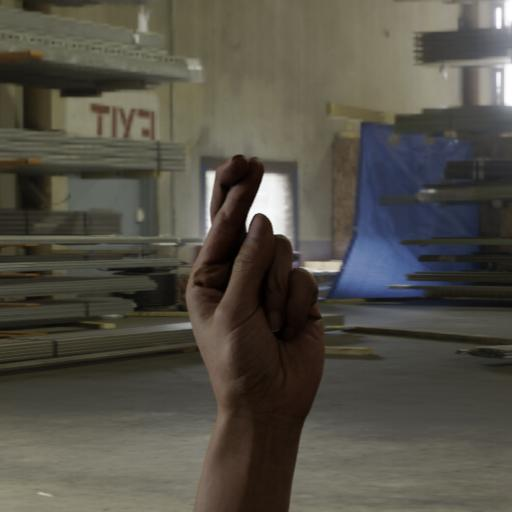R: (181, 152, 332, 430)
